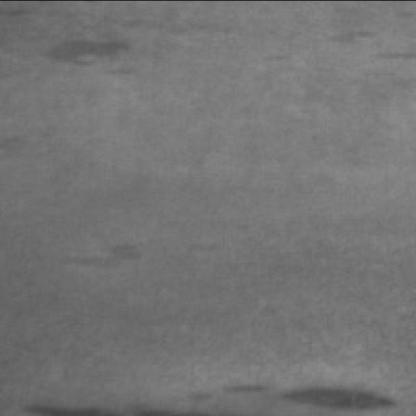inclusion: (189, 364, 406, 412), (40, 21, 144, 77), (68, 233, 148, 279), (326, 19, 382, 54)
